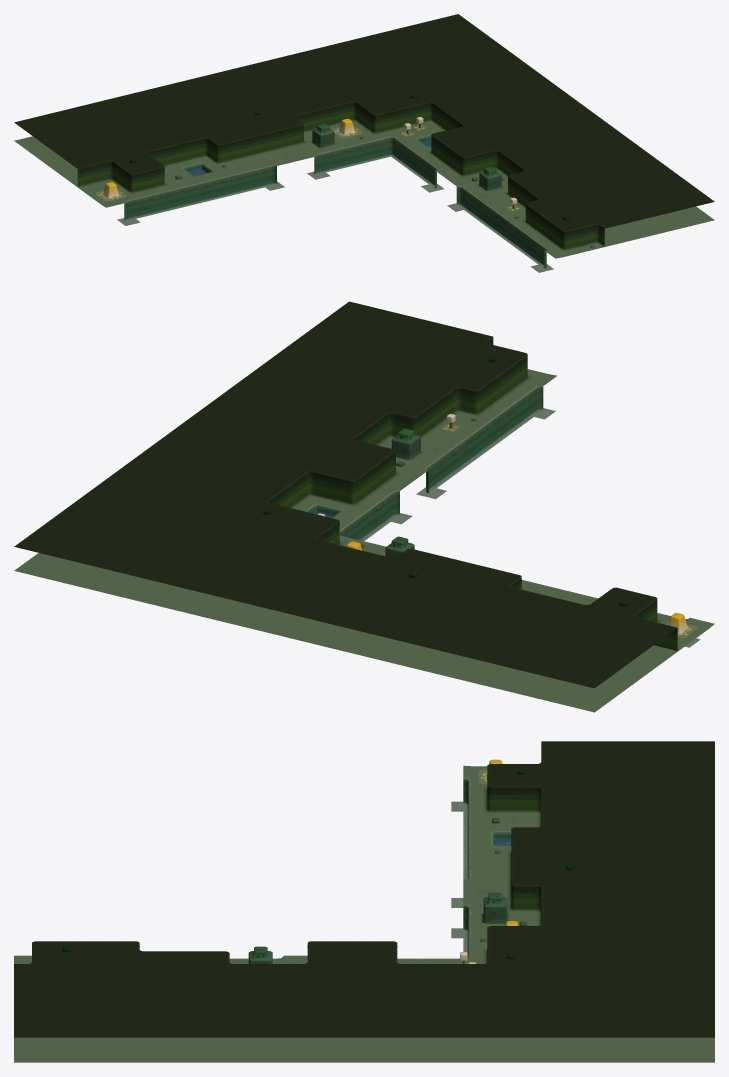
The model's file is C_cave2_out_LD.fbx.
3 views of the same model, one above another, from view 1: azimuth 30°, elevation 25°; view 2: azimuth 150°, elevation 25°; view 3: azimuth 270°, elevation 25° (orthographic). The views are drawn at different scales.
Parts seen in each view (by area): view 1: C_cave2_out_LD; view 2: C_cave2_out_LD; view 3: C_cave2_out_LD.
Part boxes in pixels (x1=…): C_cave2_out_LD: x1=14, y1=14, x2=714, y2=272; C_cave2_out_LD: x1=14, y1=301, x2=714, y2=712; C_cave2_out_LD: x1=14, y1=741, x2=714, y2=1062.
Size of the model in its own units: 117 by 9.82 by 117.
